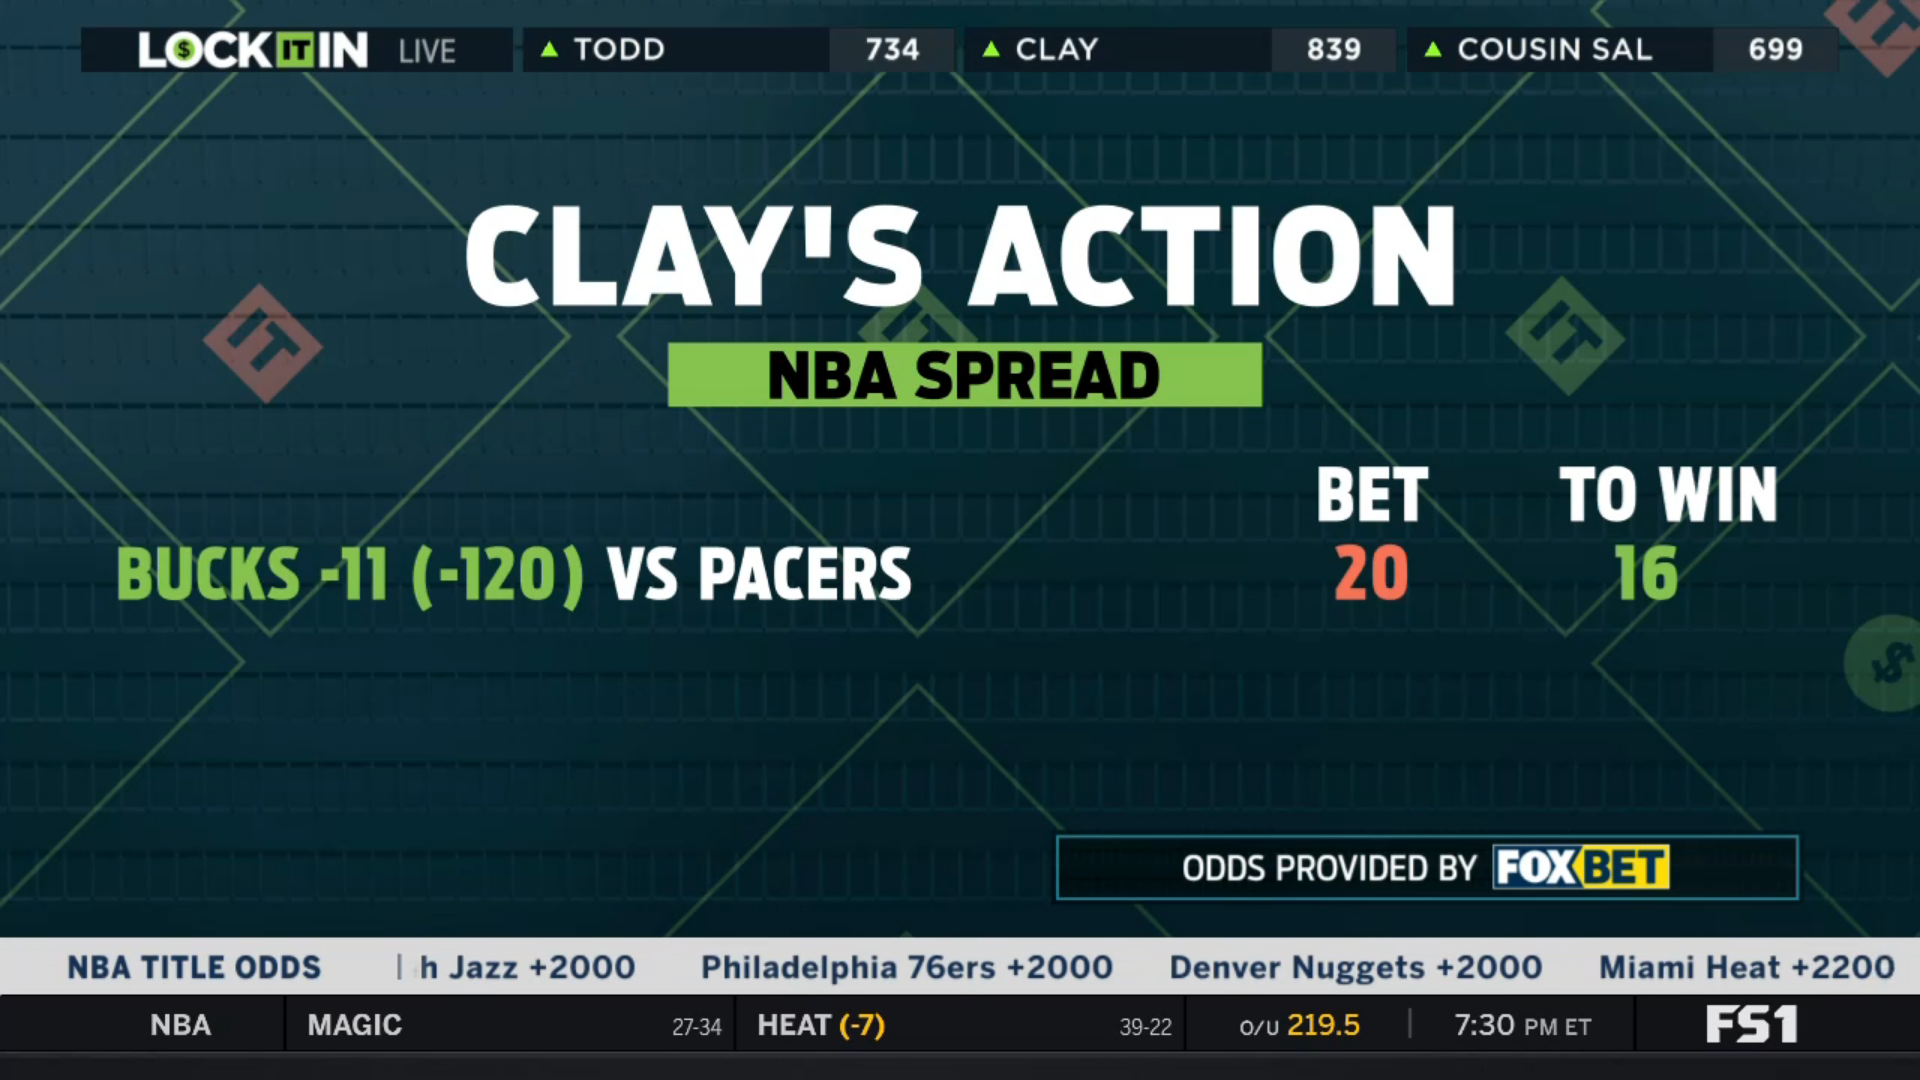Bet: (103, 531, 923, 612)
Bet Amount: (1303, 444, 1439, 617)
Subtitle: (659, 334, 1276, 415)
Title: (456, 193, 1469, 319)
To Win: (1549, 452, 1785, 611)
Top Bar: (73, 17, 1849, 80)
